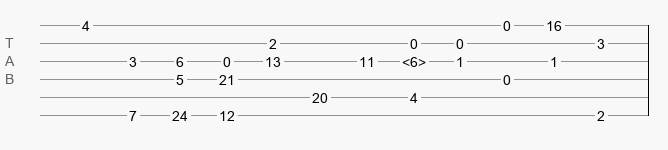0: (223, 54, 231, 64), (410, 36, 418, 46), (456, 36, 464, 46), (503, 18, 511, 28), (503, 72, 511, 82)
1: (456, 54, 464, 64), (550, 54, 558, 64)
11: (359, 54, 375, 64)
12: (219, 108, 235, 118)
13: (265, 54, 281, 64)
16: (546, 18, 562, 28)
2: (269, 36, 277, 46), (597, 108, 605, 118)
20: (312, 90, 328, 100)
21: (219, 72, 235, 82)
24: (172, 108, 188, 118)
3: (129, 54, 137, 64), (597, 36, 605, 46)
4: (82, 18, 90, 28), (410, 90, 418, 100)
5: (176, 72, 184, 82)
6: (176, 54, 184, 64)
7: (129, 108, 137, 118)
harmonic: (402, 54, 426, 64)
